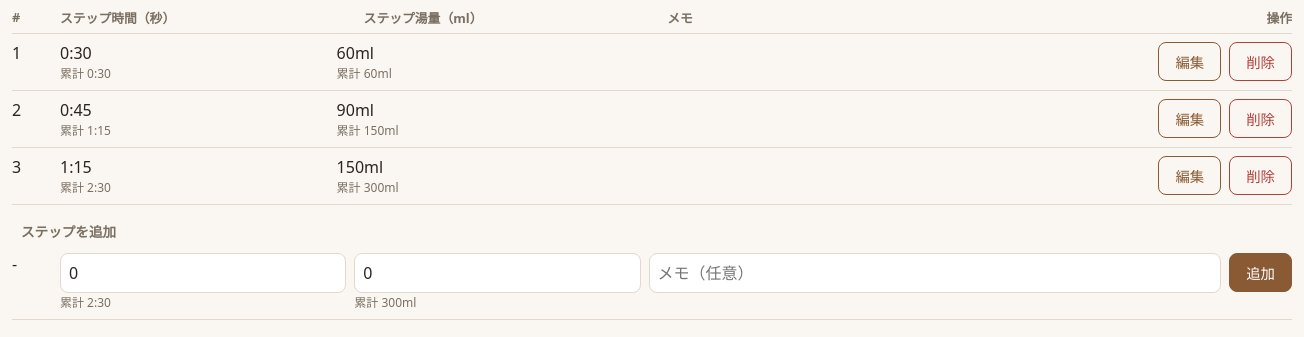
Scenario: PourStepEditor.vue › addStep › computes cumulative values from the last existing step's baseline and resets the form on success
Replace the text in the 1st number field with placeholder "秒" with "20" at [203, 273], box [60, 253, 346, 293]
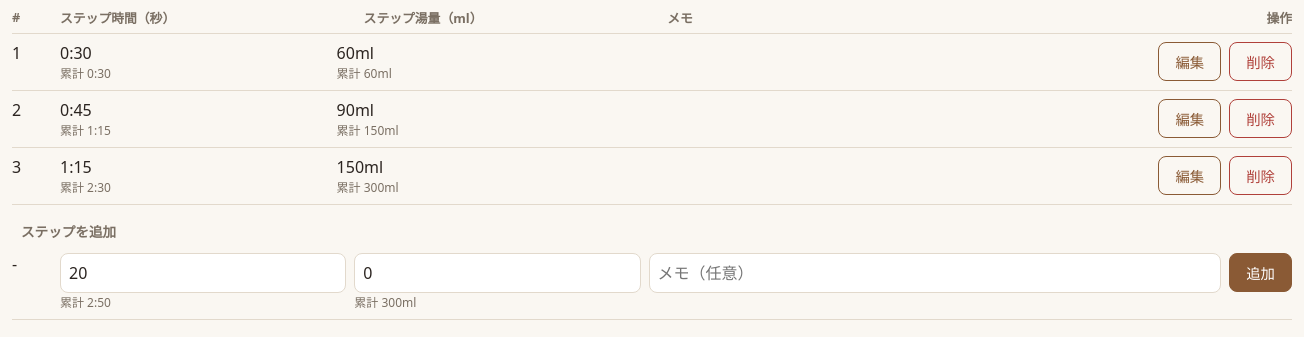
Replace the text in the 2nd number field with placeholder "ml" with "40" at [497, 273], box [354, 253, 641, 293]
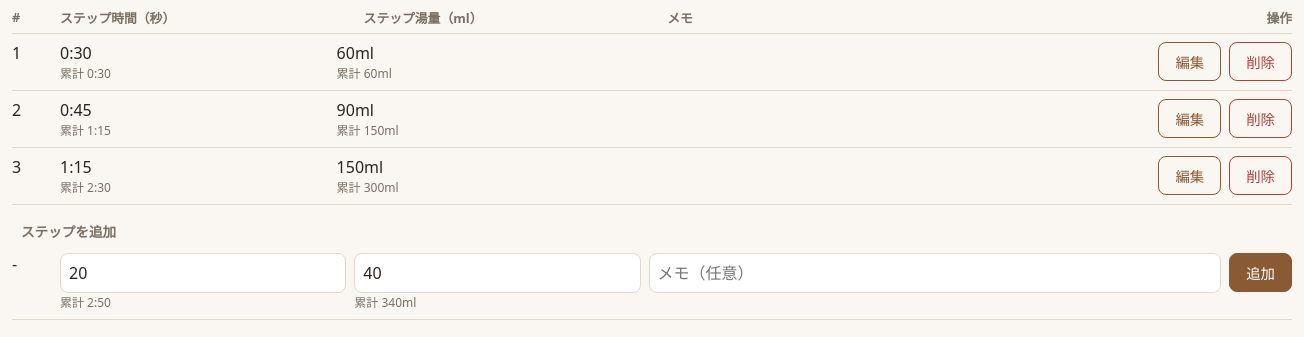
Click the button "追加" at [1261, 272], box [1229, 253, 1292, 292]
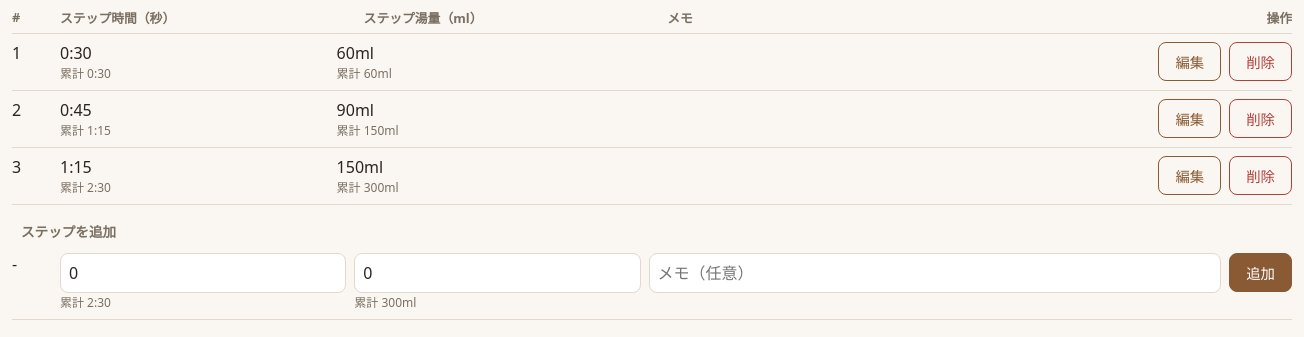
Result: the 1st number field with placeholder "秒" holds "0" at [60, 253, 346, 293]
